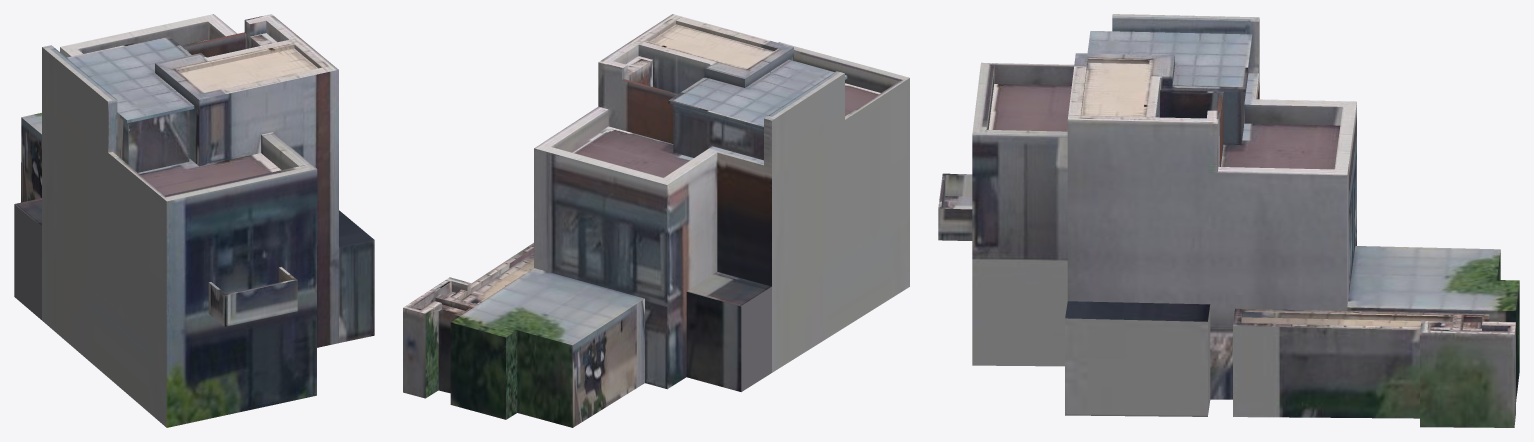
3 views of the same model, side by side, from view 1: azimuth 30°, elevation 25°; view 2: azimuth 150°, elevation 25°; view 3: azimuth 270°, elevation 25° (orthographic). The views are drawn at different scales.
Parts seen in each view (by area): view 1: B285474030301062A0; view 2: B285474030301062A0; view 3: B285474030301062A0.
Part boxes in pixels (left/top/right/bottom): B285474030301062A0: left=14, top=14, right=374, bottom=427; B285474030301062A0: left=403, top=14, right=909, bottom=427; B285474030301062A0: left=938, top=14, right=1519, bottom=427.
Bounding box in the file's own units: 12.08 × 11.16 × 20.84.
Materials: 1 (1 with a texture image).
